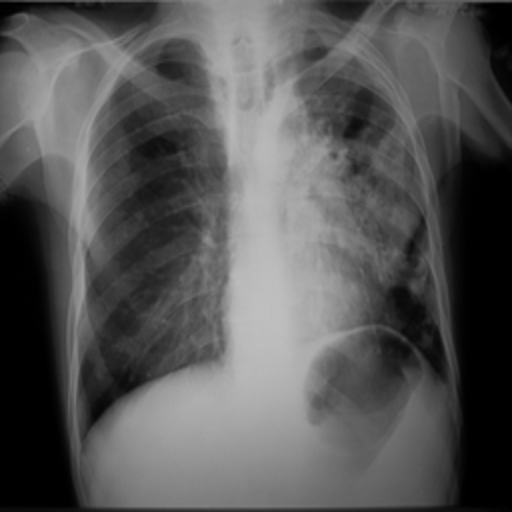TB: (296, 92, 435, 298)
